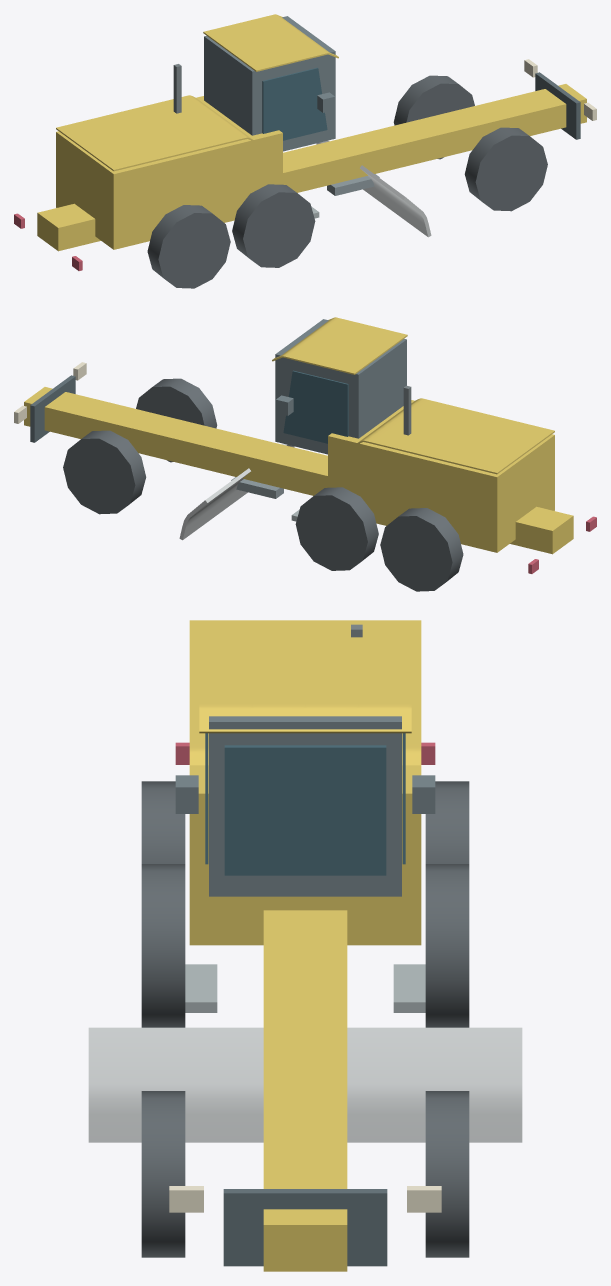
3 renders of one model, top to bottom at view 1: azimuth 30°, elevation 25°; view 2: azimuth 150°, elevation 25°; view 3: azimuth 270°, elevation 25°, orthographic. The views are drawn at different scales.
Visible parts, largest first — view 1: engine, frame, formed_engine_cover, cabin, wheel_middle_right, wheel_rear_right, wheel_front_right, bent_cab_roof, cab_window_right, wheel_front_left, curved_plow_blade, radiator_grille (+2 smaller); view 2: engine, frame, formed_engine_cover, cabin, wheel_middle_left, wheel_rear_left, wheel_front_left, bent_cab_roof, cab_window_left, wheel_front_right, curved_plow_blade, radiator_grille (+2 smaller); view 3: curved_plow_blade, frame, cab_windscreen, bent_cab_roof, cabin, engine, radiator_grille, wheel_middle_left, wheel_middle_right, formed_engine_cover, wheel_front_left, wheel_front_right (+8 smaller).
Part boxes in pixels (<box>): engine: <box>56,96,282,249</box>; frame: <box>37,84,586,251</box>; formed_engine_cover: <box>56,95,254,171</box>; cabin: <box>204,16,335,151</box>; wheel_middle_right: <box>232,184,315,267</box>; wheel_rear_right: <box>147,205,230,288</box>; wheel_front_right: <box>464,127,547,211</box>; bent_cab_roof: <box>203,14,338,71</box>; cab_window_right: <box>262,67,327,140</box>; wheel_front_left: <box>393,75,474,159</box>; curved_plow_blade: <box>316,140,431,237</box>; radiator_grille: <box>535,72,580,139</box>; engine: <box>328,400,554,552</box>; frame: <box>24,387,573,554</box>; formed_engine_cover: <box>357,398,554,474</box>; cabin: <box>275,319,406,454</box>; wheel_middle_left: <box>295,487,378,570</box>; wheel_rear_left: <box>380,508,463,591</box>; wheel_front_left: <box>63,430,146,514</box>; bent_cab_roof: <box>272,317,407,374</box>; cab_window_left: <box>283,370,348,443</box>; wheel_front_right: <box>136,378,217,462</box>; curved_plow_blade: <box>179,443,294,540</box>; radiator_grille: <box>30,375,75,442</box>; curved_plow_blade: <box>88,1027,522,1142</box>; frame: <box>263,910,347,1271</box>; cab_windscreen: <box>224,745,386,875</box>; bent_cab_roof: <box>199,637,411,733</box>; cabin: <box>209,716,401,896</box>; engine: <box>189,765,421,945</box>; radiator_grille: <box>223,1189,387,1266</box>; wheel_middle_left: <box>425,864,469,1027</box>; wheel_middle_right: <box>141,864,185,1027</box>; formed_engine_cover: <box>189,620,421,765</box>; wheel_front_left: <box>425,1091,469,1257</box>; wheel_front_right: <box>141,1091,185,1257</box>.
Size of the model in its own units: 9.53 by 3.24 by 3.38.
